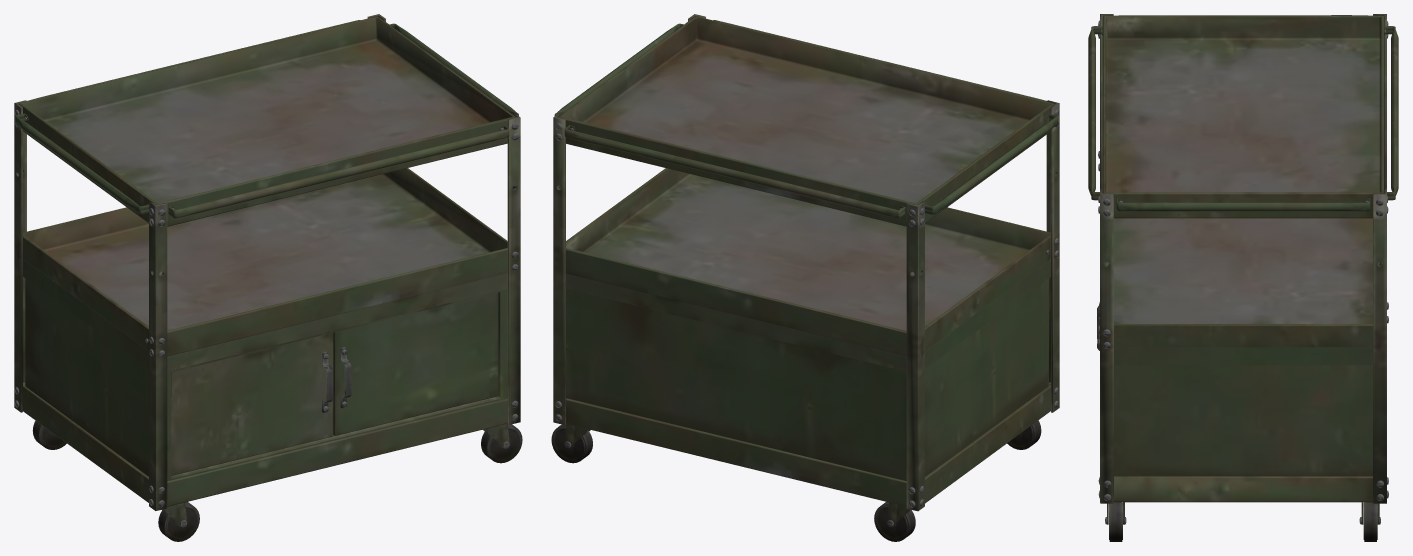
Rendered from industrial_storage_cart_512.glb.
The picture shows the model from 3 angles, left to right: view 1: azimuth 30°, elevation 25°; view 2: azimuth 150°, elevation 25°; view 3: azimuth 270°, elevation 25°; orthographic projection.
Visible parts, largest first — view 1: industrial_storage_cart; view 2: industrial_storage_cart; view 3: industrial_storage_cart.
Part boxes in pixels (bbox=[...]): industrial_storage_cart: bbox=[14, 14, 522, 541]; industrial_storage_cart: bbox=[551, 14, 1059, 541]; industrial_storage_cart: bbox=[1088, 14, 1398, 541].
Size of the model in its own units: 1.6 by 1.38 by 1.1.
Materials: 1 (1 with a texture image).
